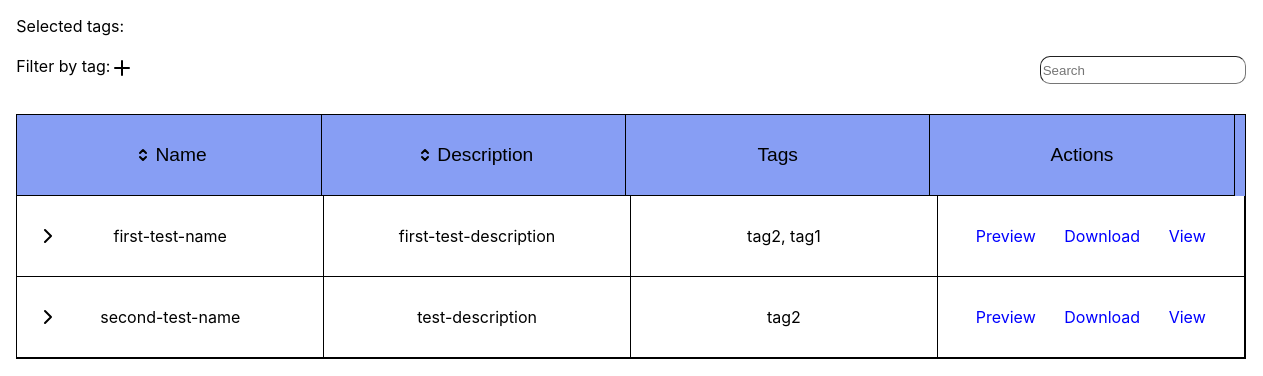
Test: filtering by tags › only model with selected tag should be displayed
Step 1. Click the button with alt text "Add tag" next to "Filter by tag:" → click(122, 68), box [110,56,134,80]
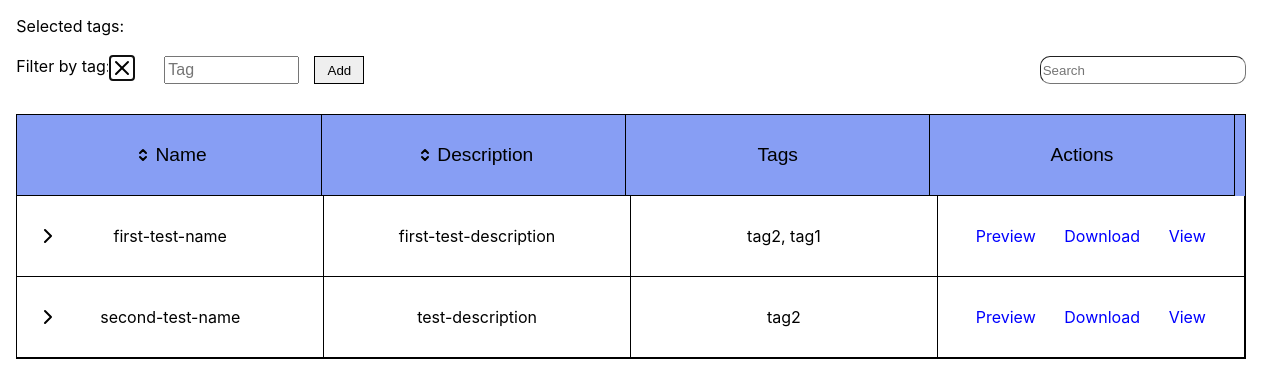
Step 2. Type "tag1" into the field with placeholder "Tag" → (232, 70), box [164,56,299,84]
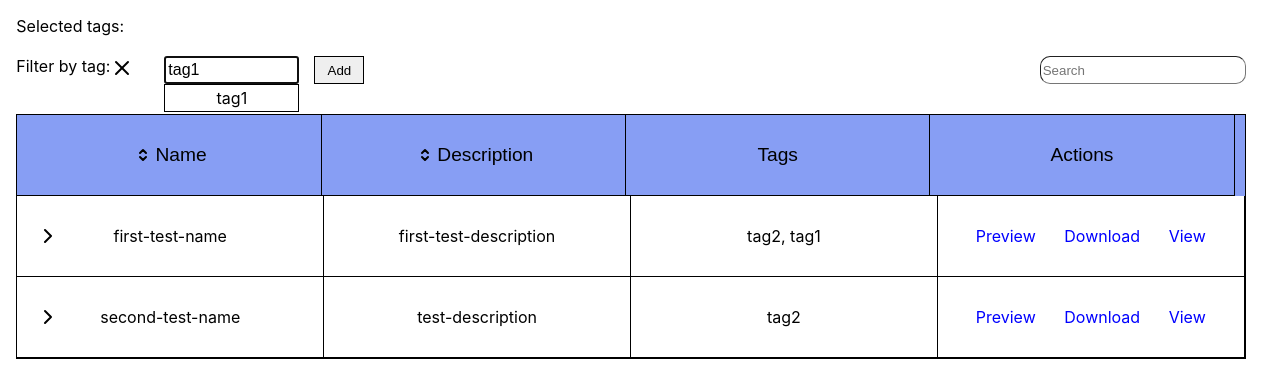
Step 3. Click the button "Add" → click(339, 70), box [314,56,364,84]
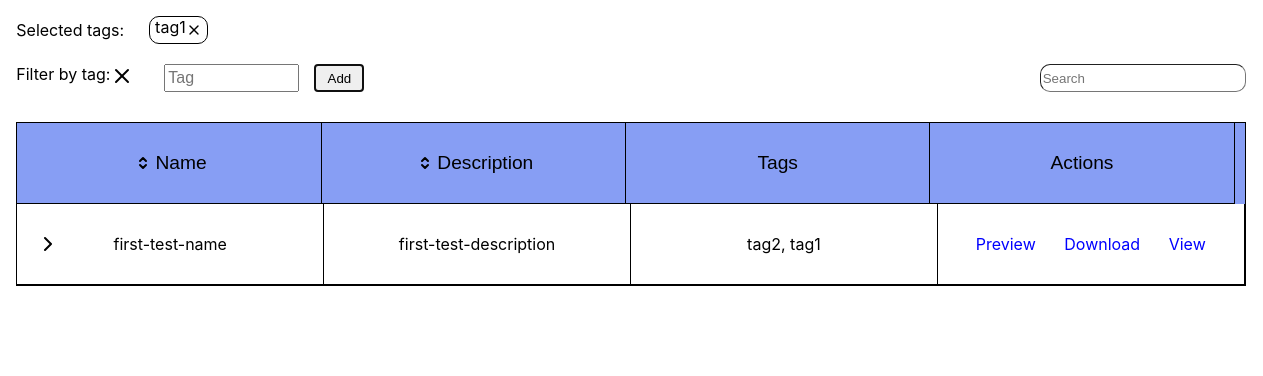
Expected: the text "first-test-name" is shown, [17,204,324,285]
Now the text "second-test-name" is gone
